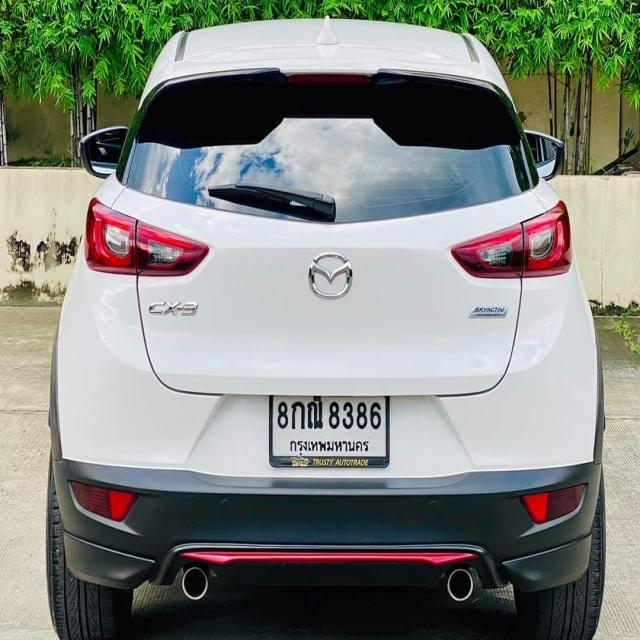license_plate: (268, 390, 392, 470)
